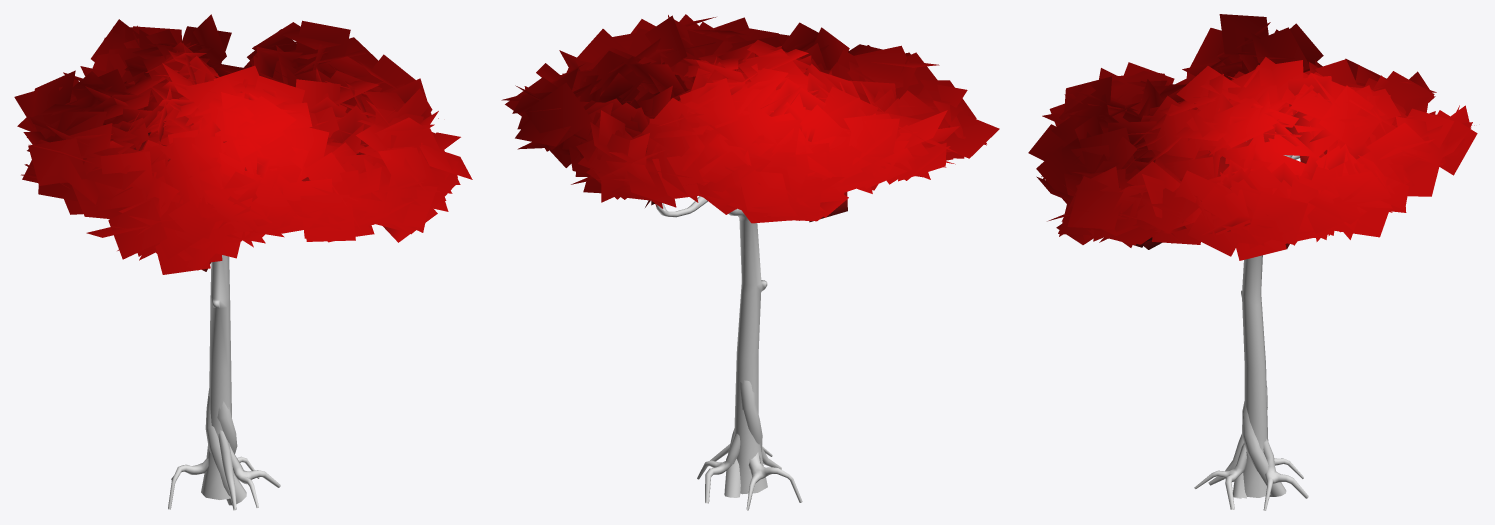
File: SM_Tree4.fbx
The picture shows the model from 3 angles, left to right: view 1: azimuth 30°, elevation 25°; view 2: azimuth 150°, elevation 25°; view 3: azimuth 270°, elevation 25°; orthographic projection. The views are drawn at different scales.
Parts seen in each view (by area): view 1: Leaf, Tree Trunk3; view 2: Leaf, Tree Trunk3; view 3: Leaf, Tree Trunk3.
Part boxes in pixels (left/top/right/bottom): Leaf: left=14, top=14, right=472, bottom=274; Tree Trunk3: left=168, top=255, right=280, bottom=510; Leaf: left=501, top=14, right=999, bottom=223; Tree Trunk3: left=656, top=196, right=802, bottom=510; Leaf: left=1028, top=14, right=1477, bottom=260; Tree Trunk3: left=1194, top=155, right=1308, bottom=510.
Bounding box in the file's own units: 9.33 × 9.54 × 9.26.
